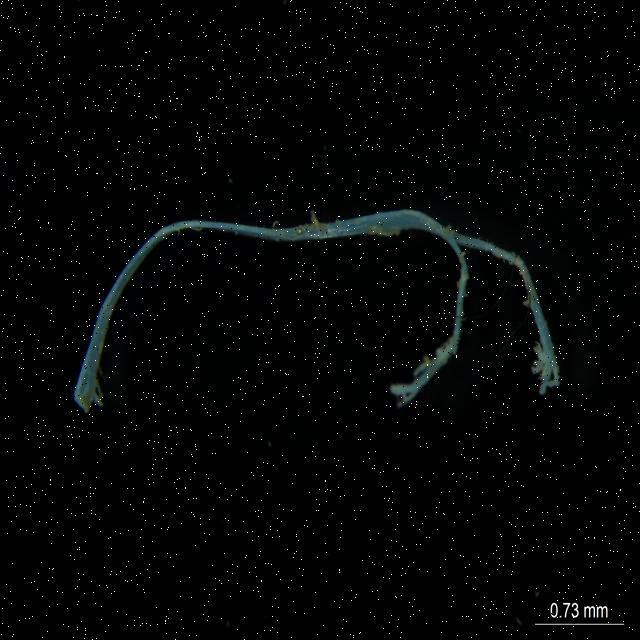Fibre: (71, 200, 568, 424)
